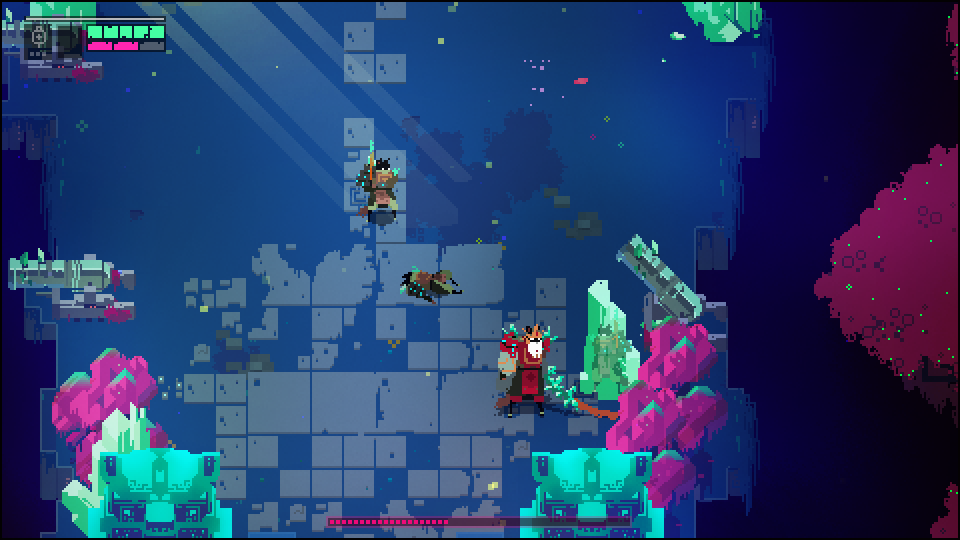hanged_man: (487, 320, 594, 427)
